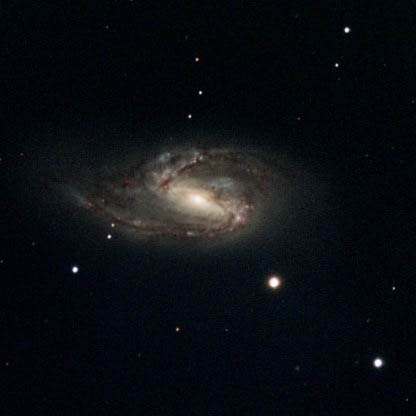Messier 66: (57, 124, 331, 300)
